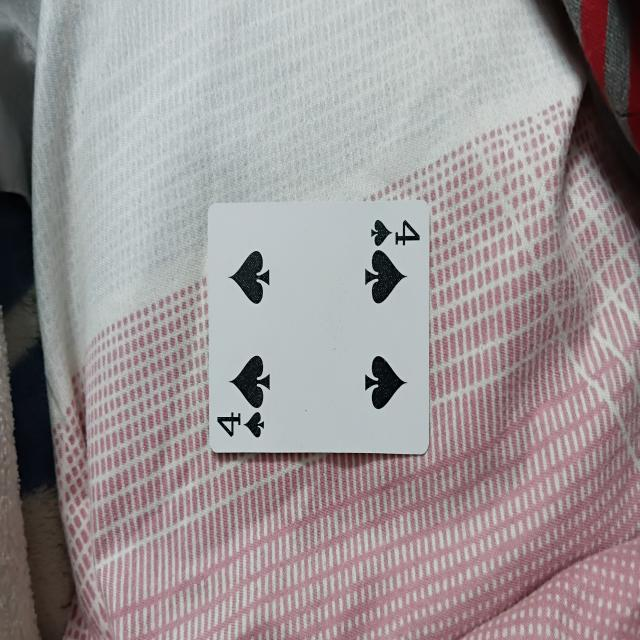4S: (209, 200, 428, 454)
